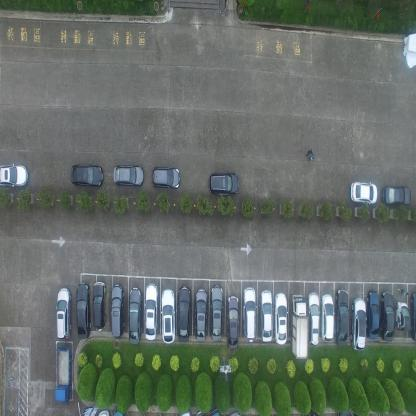car: (291, 291, 308, 358), (54, 344, 72, 402), (144, 282, 160, 340), (350, 296, 366, 352), (160, 288, 176, 343), (242, 286, 257, 344), (56, 286, 72, 339), (128, 286, 142, 346), (208, 170, 239, 197), (112, 162, 144, 188), (76, 282, 90, 340), (69, 164, 104, 187), (274, 290, 288, 346), (0, 162, 29, 189), (151, 164, 181, 190), (194, 287, 208, 342), (210, 283, 223, 342), (178, 284, 191, 343), (335, 287, 348, 346), (93, 279, 107, 332), (111, 281, 124, 338), (380, 291, 395, 340), (349, 179, 377, 205), (381, 183, 410, 208), (320, 294, 335, 342), (226, 295, 239, 350), (366, 289, 380, 340), (308, 290, 320, 347), (260, 288, 272, 342), (395, 299, 410, 333), (410, 292, 415, 342)
